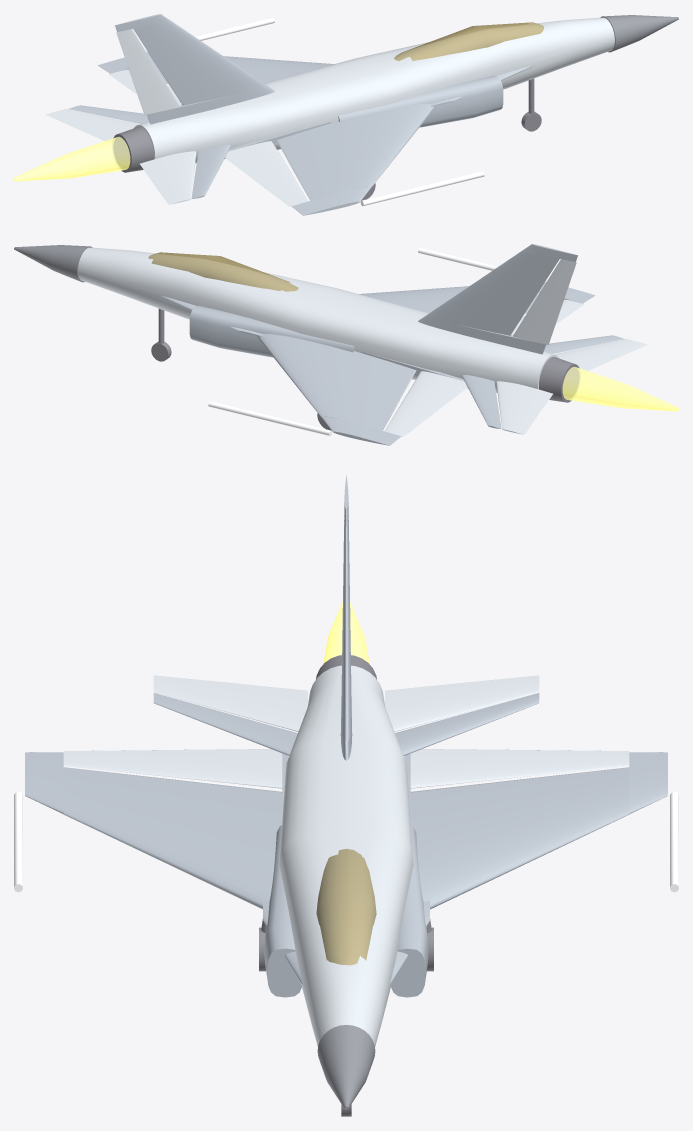
The model's file is fighter.glb.
3 renders of one model, top to bottom at view 1: azimuth 30°, elevation 25°; view 2: azimuth 150°, elevation 25°; view 3: azimuth 270°, elevation 25°, orthographic. The views are drawn at different scales.
Parts seen in each view (by area): view 1: body, burner, flaperonR, rudder, elevatorR, elevatorL, gear, flaperonL; view 2: body, burner, flaperonL, rudder, elevatorL, elevatorR, gear, flaperonR; view 3: body, flaperonL, flaperonR, elevatorL, elevatorR, burner.
Part boxes in pixels (x1,y1,x2,y2): body: (68, 14, 678, 215); burner: (14, 136, 130, 181); flaperonR: (225, 141, 308, 206); rudder: (116, 29, 179, 114); elevatorR: (140, 151, 196, 204); elevatorL: (45, 109, 138, 140); gear: (361, 78, 541, 200); flaperonL: (109, 69, 181, 105); body: (14, 244, 624, 445); burner: (562, 366, 678, 411); flaperonL: (384, 371, 467, 436); rudder: (513, 259, 576, 344); elevatorL: (496, 381, 552, 434); elevatorR: (554, 339, 647, 370); gear: (151, 308, 331, 430); flaperonR: (511, 299, 583, 335); body: (14, 474, 678, 1109); flaperonL: (410, 749, 629, 788); flaperonR: (63, 749, 282, 788); elevatorL: (385, 675, 539, 731); elevatorR: (153, 675, 307, 731); burner: (323, 602, 369, 664).
Bounding box in the file's own units: 18.62 × 5.59 × 10.34.
